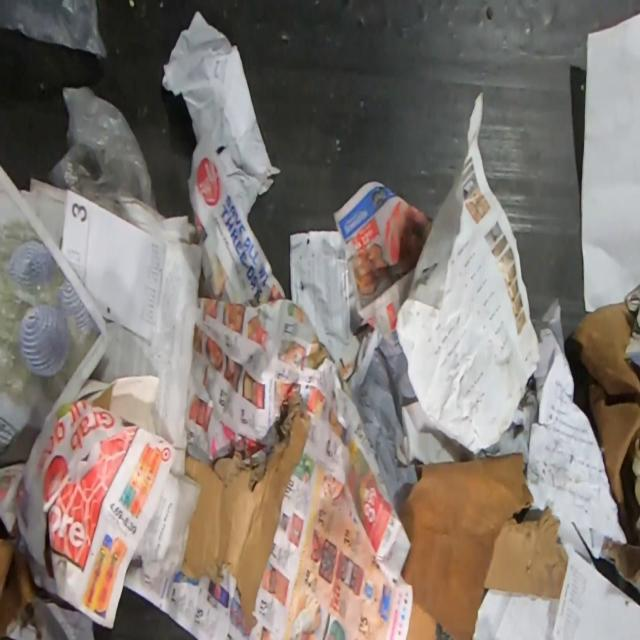cardboard: (400, 451, 568, 639), (178, 389, 310, 628), (570, 301, 640, 593), (0, 537, 39, 640)
soft_plastic: (44, 86, 158, 218)
